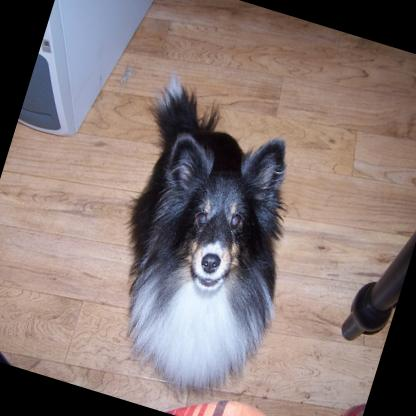Shetland_sheepdog: (66, 62, 333, 415)
